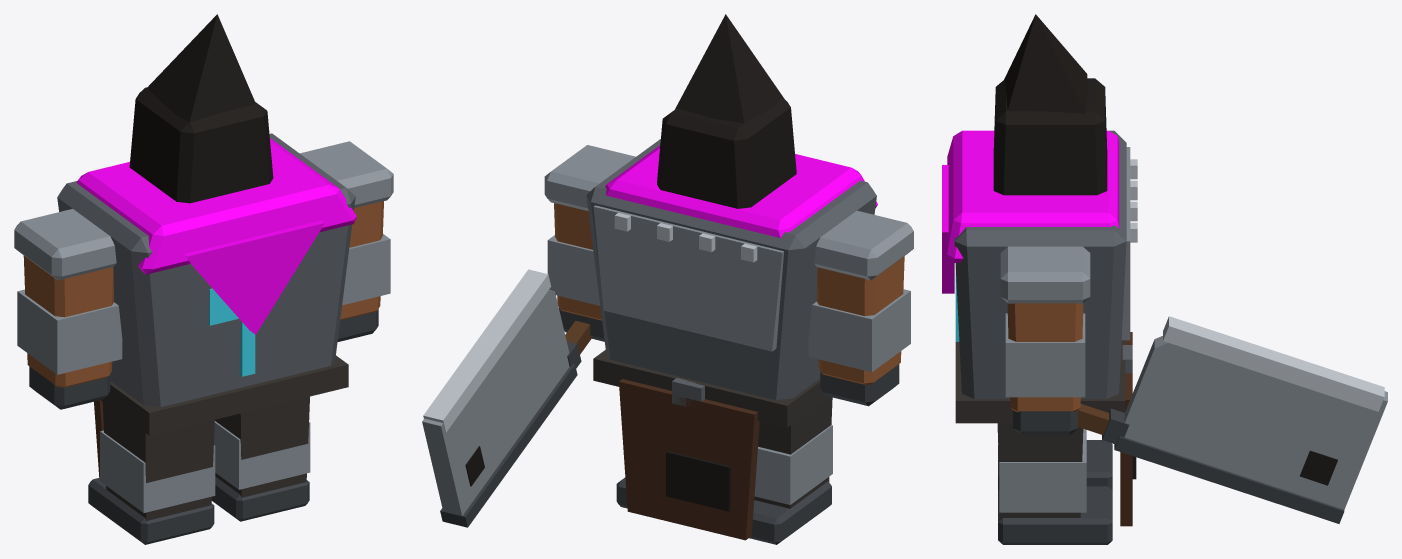
The model's file is CH_MurderMachine_HeadsmanOfRome.fbx.
3 views of the same model, side by side, from view 1: azimuth 30°, elevation 25°; view 2: azimuth 150°, elevation 25°; view 3: azimuth 270°, elevation 25° (orthographic). The views are drawn at different scales.
Parts seen in each view (by area): view 1: Body, Mantle, Head, MantleTail, Belt, HoodPoint, VambraceL, LegL, PauldronL, ArmL, GreaveL, LegR (+10 smaller); view 2: Body, ChestPlate, Apron, Blade, Head, Mantle, HoodPoint, VambraceL, Edge, PauldronL, ArmL, Belt (+11 smaller); view 3: Blade, Body, Head, Mantle, Edge, HoodPoint, PauldronR, VambraceR, GreaveR, BootR, ArmR, Spine (+10 smaller).
Part boxes in pixels (bbox=[...]): Body: bbox=[57, 133, 355, 407]; Mantle: bbox=[76, 138, 356, 274]; Head: bbox=[129, 87, 273, 203]; MantleTail: bbox=[183, 220, 324, 334]; Belt: bbox=[101, 355, 348, 435]; HoodPoint: bbox=[147, 14, 255, 126]; VambraceL: bbox=[17, 289, 122, 374]; LegL: bbox=[102, 402, 214, 520]; PauldronL: bbox=[14, 209, 116, 280]; ArmL: bbox=[23, 255, 113, 387]; GreaveL: bbox=[100, 430, 215, 512]; LegR: bbox=[215, 396, 309, 497]; Body: bbox=[586, 139, 876, 400]; ChestPlate: bbox=[593, 205, 783, 351]; Apron: bbox=[619, 379, 759, 540]; Blade: bbox=[422, 290, 569, 516]; Head: bbox=[657, 97, 796, 208]; Mantle: bbox=[605, 145, 877, 237]; HoodPoint: bbox=[675, 14, 785, 122]; VambraceL: bbox=[808, 289, 910, 372]; Edge: bbox=[423, 269, 551, 432]; PauldronL: bbox=[814, 210, 913, 280]; ArmL: bbox=[816, 256, 904, 384]; Belt: bbox=[593, 350, 829, 427]; Blade: bbox=[1124, 336, 1387, 509]; Body: bbox=[954, 130, 1126, 398]; Head: bbox=[993, 78, 1107, 195]; Mantle: bbox=[947, 130, 1119, 262]; Edge: bbox=[1163, 316, 1384, 411]; HoodPoint: bbox=[1004, 14, 1087, 113]; PauldronR: bbox=[1000, 246, 1090, 303]; VambraceR: bbox=[1005, 313, 1085, 397]; GreaveR: bbox=[999, 429, 1086, 512]; BootR: bbox=[998, 486, 1112, 544]; ArmR: bbox=[1007, 303, 1083, 412]; Spine: bbox=[1114, 436, 1344, 523].
Size of the model in its own units: 1.58 by 1.79 by 2.2.
